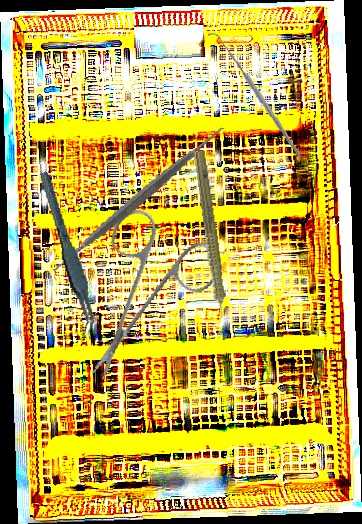Handpiece: (186, 150, 233, 331)
Hook Surgical: (207, 27, 303, 165)
Iris Scissors: (50, 190, 245, 383)
Spatula Surgical: (39, 100, 237, 298)
Tissue Forceps: (38, 168, 98, 339)
